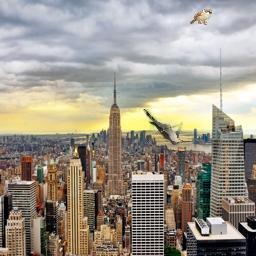Cuckoo: (143, 109, 183, 145)
Sparrow: (190, 9, 212, 25)
